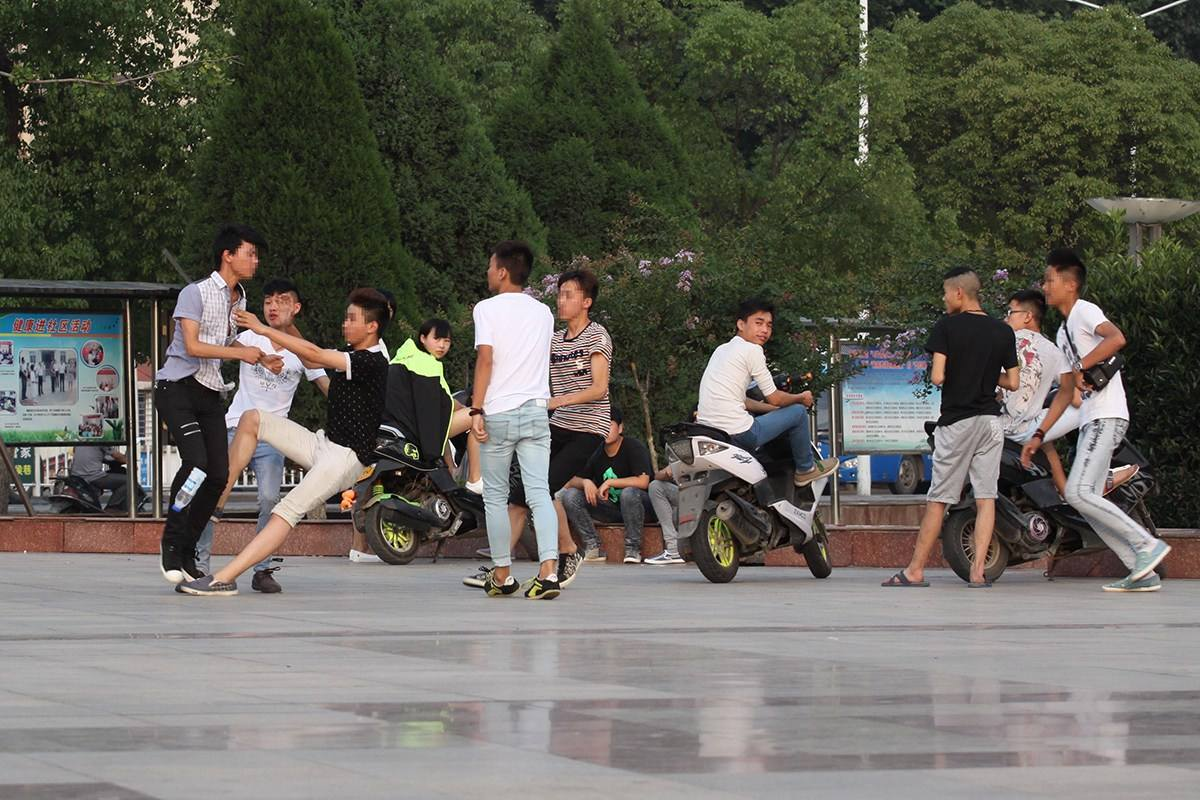no_mask: (474, 226, 537, 296), (340, 280, 394, 355), (928, 254, 985, 323), (212, 222, 265, 295), (1033, 247, 1092, 312), (548, 264, 601, 327), (729, 295, 777, 354), (260, 275, 302, 338), (416, 312, 458, 366)
